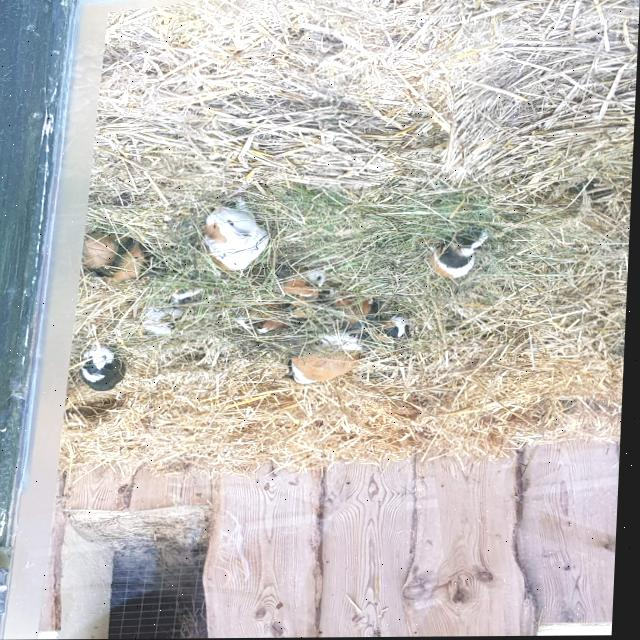guinea pig: (202, 196, 275, 274), (86, 230, 175, 284), (431, 228, 492, 279), (285, 354, 370, 386), (83, 340, 131, 393), (281, 265, 330, 296), (386, 315, 421, 337)
